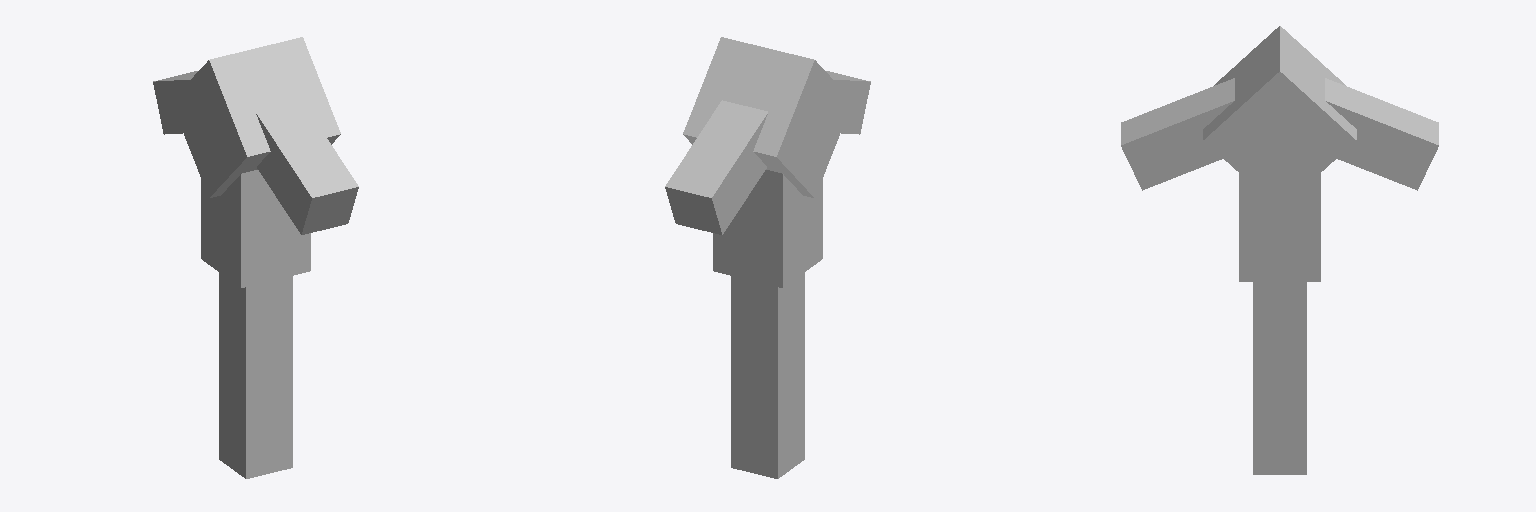
File: shard_pickaxe_arcane.obj
3 renders of one model, left to right at view 1: azimuth 30°, elevation 25°; view 2: azimuth 150°, elevation 25°; view 3: azimuth 270°, elevation 25°, orthographic.
Visible parts, largest first — view 1: pickblade2; view 2: pickblade2; view 3: pickblade2.
Boxes of the visible parts, <box> form: pickblade2: <box>153,37,358,478</box>; pickblade2: <box>665,37,870,478</box>; pickblade2: <box>1121,26,1438,474</box>.
Size of the model in its own units: 0.25 by 1.06 by 0.7356.